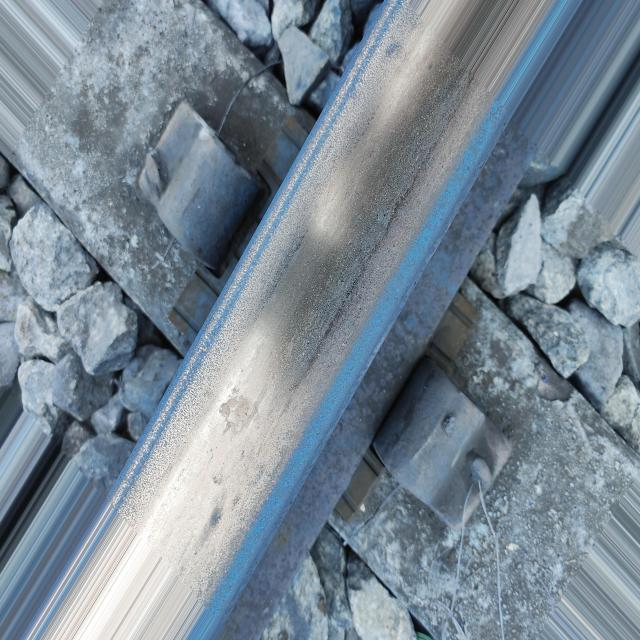Missing Fastener: (356, 312, 528, 575), (120, 72, 283, 276)
